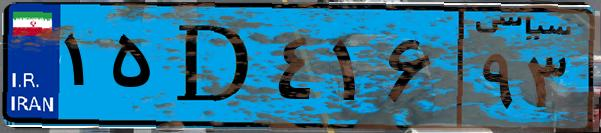1: (330, 28, 385, 110), (57, 26, 110, 100)
3: (525, 38, 570, 115)
4: (270, 28, 330, 110)
5: (110, 28, 158, 98)
6: (385, 28, 445, 110)
9: (475, 38, 525, 113)
D: (158, 12, 270, 120)
